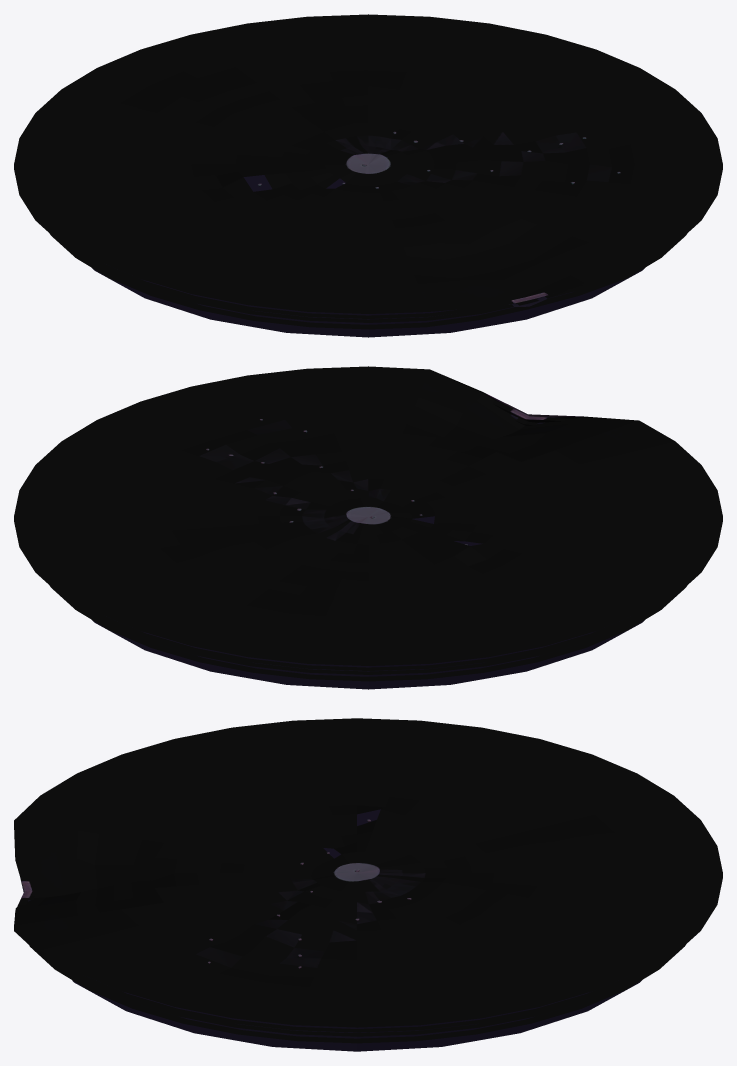
The model's file is island-hub.glb.
3 renders of one model, top to bottom at view 1: azimuth 30°, elevation 25°; view 2: azimuth 150°, elevation 25°; view 3: azimuth 270°, elevation 25°, orthographic. The views are drawn at different scales.
Visible parts, largest first — view 1: hub_disc_main, hub_cliff_tiers, hub_disc_underside; view 2: hub_disc_main, hub_cliff_tiers, hub_disc_underside; view 3: hub_disc_main, hub_cliff_tiers, hub_disc_underside.
Part boxes in pixels (x1,y1,x2,y2): hub_disc_main: [14, 14, 722, 313]; hub_cliff_tiers: [14, 165, 722, 329]; hub_disc_underside: [92, 175, 645, 337]; hub_disc_main: [14, 366, 722, 665]; hub_cliff_tiers: [14, 367, 722, 681]; hub_disc_underside: [92, 516, 644, 689]; hub_disc_main: [14, 718, 722, 1027]; hub_cliff_tiers: [14, 812, 722, 1043]; hub_disc_underside: [72, 809, 641, 1051].
Size of the model in its own units: 130 by 23.28 by 126.
5 materials, 5 textured.
